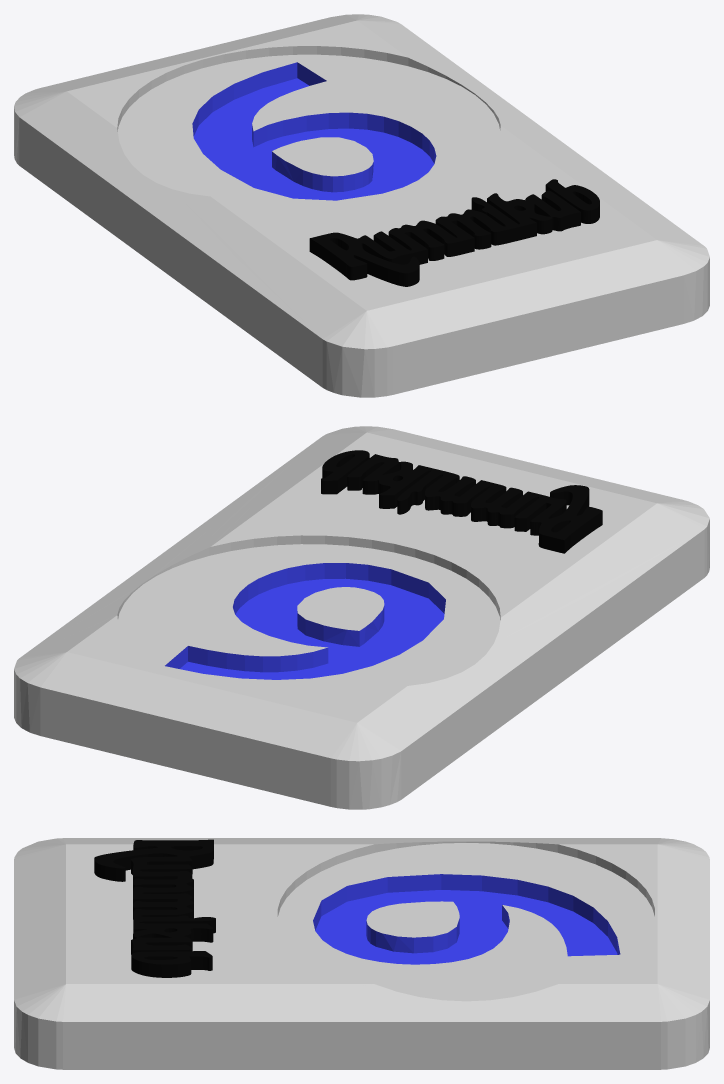
The picture shows the model from 3 angles, top to bottom: view 1: azimuth 30°, elevation 25°; view 2: azimuth 150°, elevation 25°; view 3: azimuth 270°, elevation 25°; orthographic projection.
Visible parts, largest first — view 1: Rummikub 6 Fixed, Rummikub 1 Fixed.001; view 2: Rummikub 6 Fixed, Rummikub 1 Fixed.001; view 3: Rummikub 6 Fixed, Rummikub 1 Fixed.001.
Boxes of the visible parts, left/top/right/bottom form: Rummikub 6 Fixed: left=14, top=14, right=709, bottom=397; Rummikub 1 Fixed.001: left=309, top=179, right=599, bottom=286; Rummikub 6 Fixed: left=14, top=426, right=709, bottom=809; Rummikub 1 Fixed.001: left=321, top=450, right=602, bottom=553; Rummikub 6 Fixed: left=14, top=838, right=709, bottom=1069; Rummikub 1 Fixed.001: left=94, top=839, right=215, bottom=977.
Bounding box in the file's own units: 2499 × 489 × 4000.
